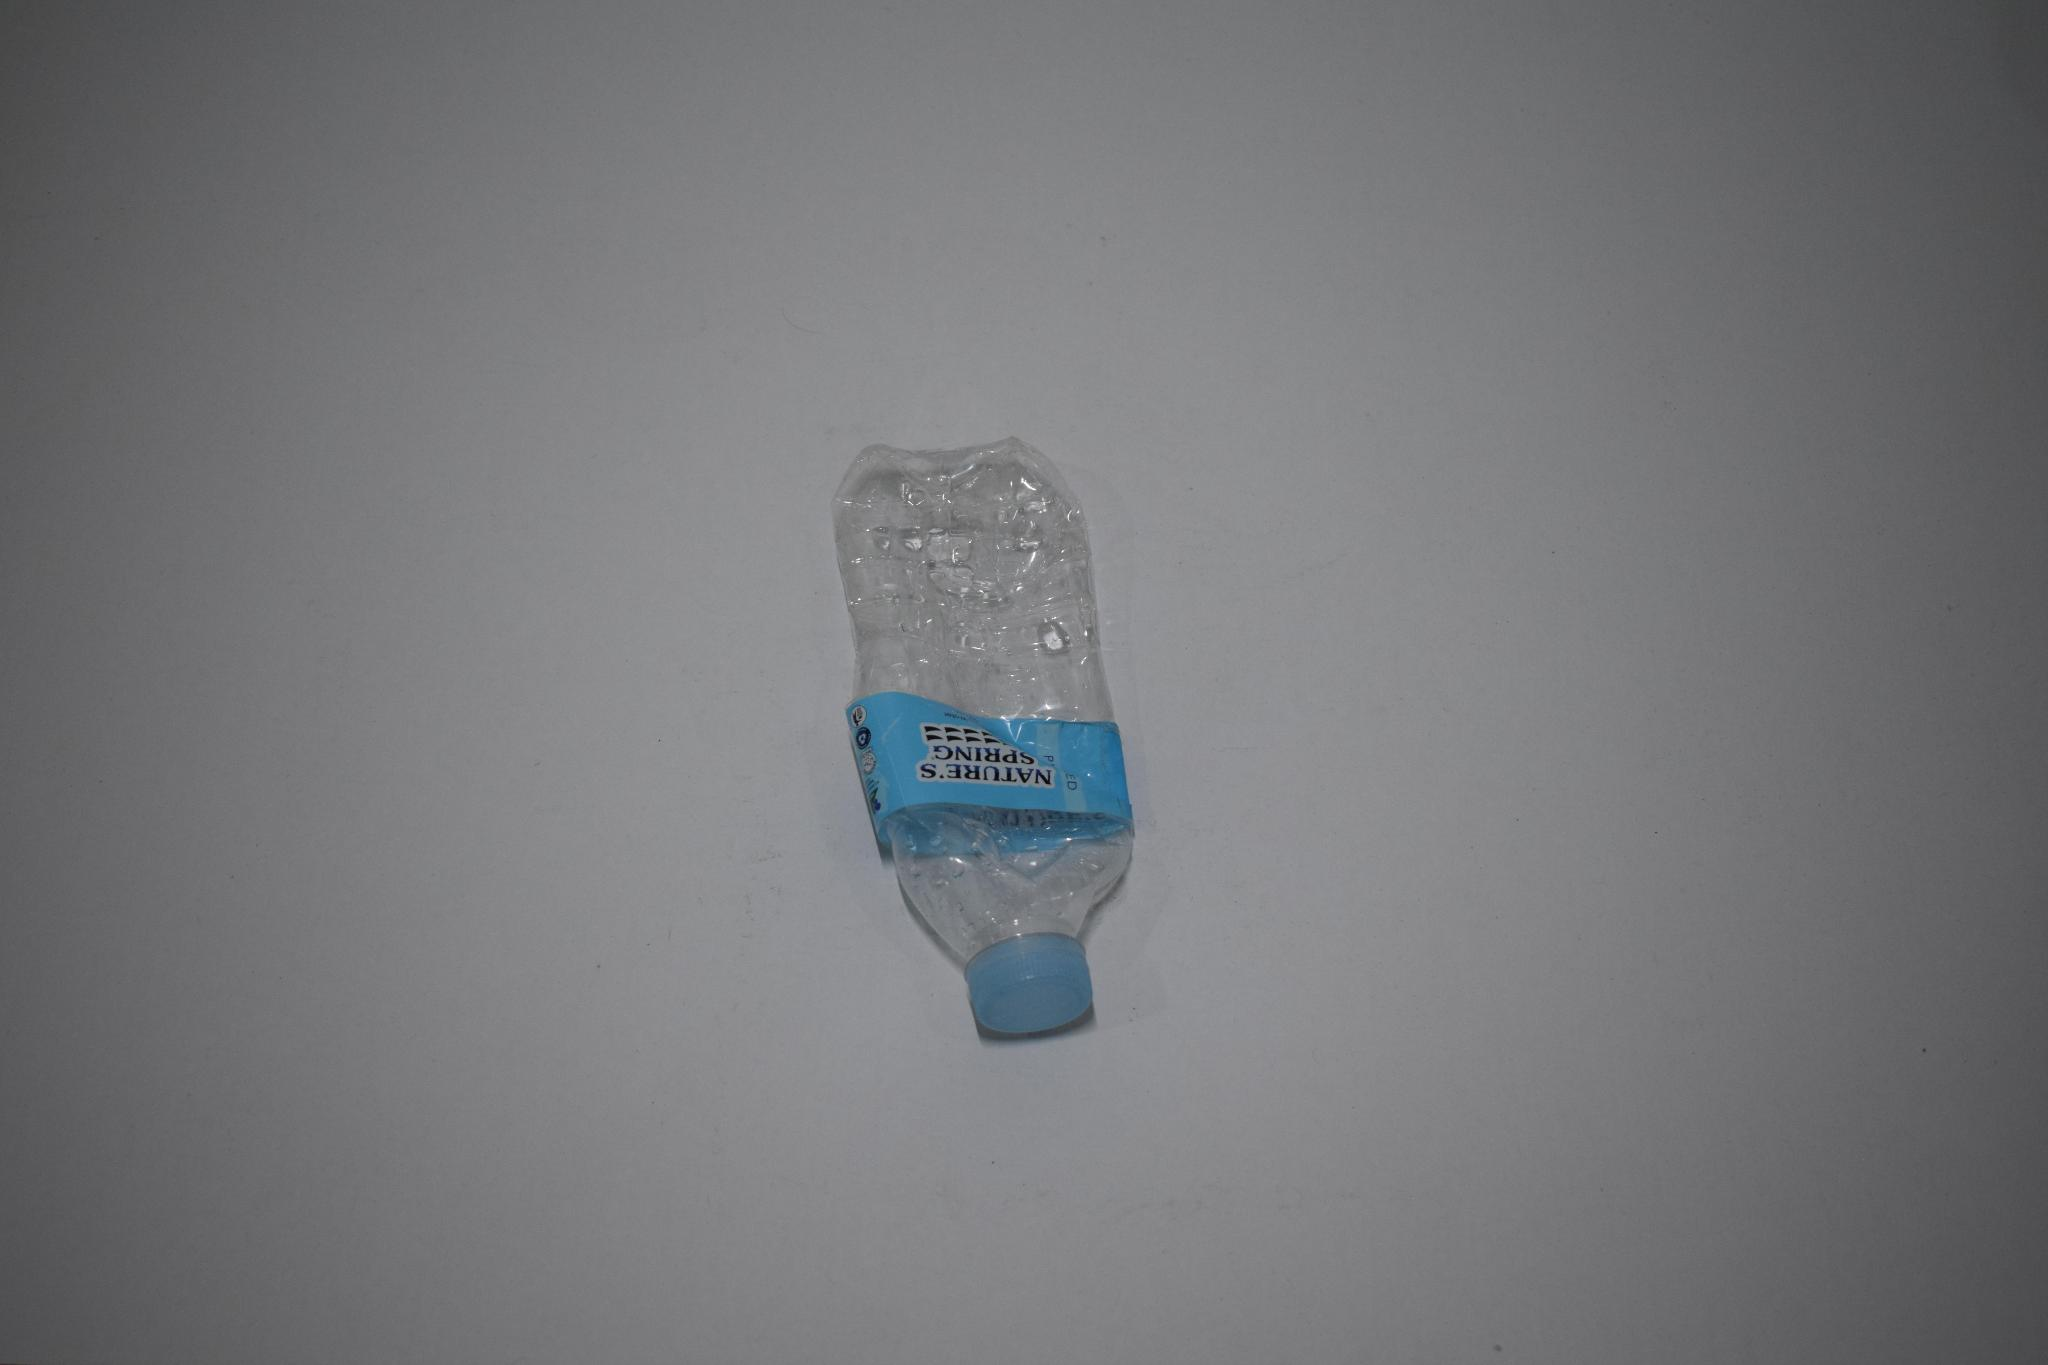bottle: (828, 430, 1137, 1050)
